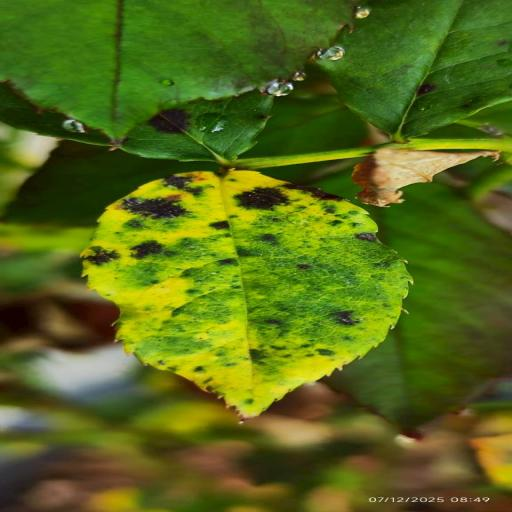black_spot: (83, 170, 409, 417), (320, 0, 511, 141), (122, 92, 273, 163)
